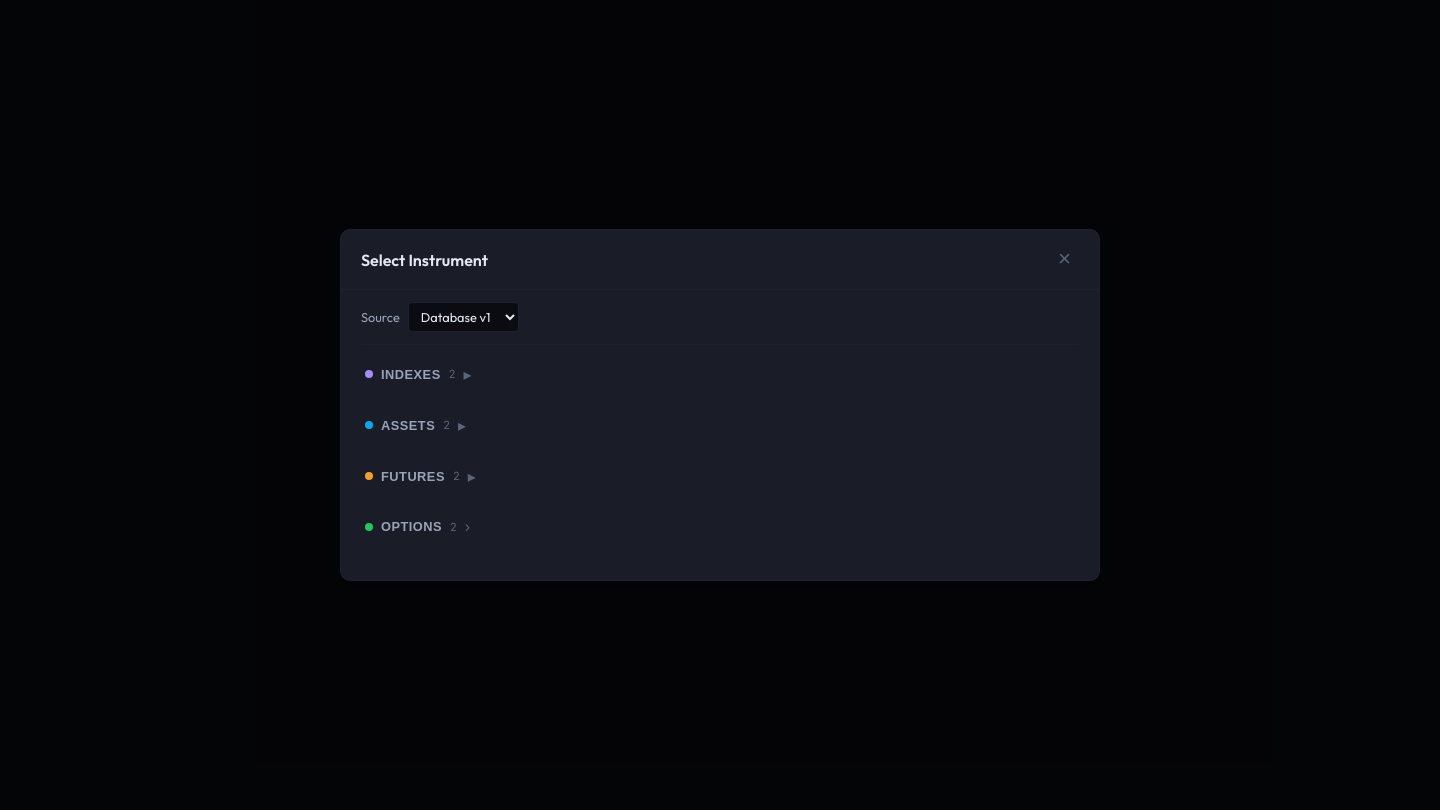
<InstrumentPickerModal> source-aware catalog › toggling the source v1→v2 RELOADS the catalog and drops v1-only items
Expected: the text "Indexes" is shown, left=381, top=367, right=441, bottom=382
// Start on v1: FUT_VIX is offered.
Click the text "Futures" at (413, 476), box left=381, top=469, right=445, bottom=484
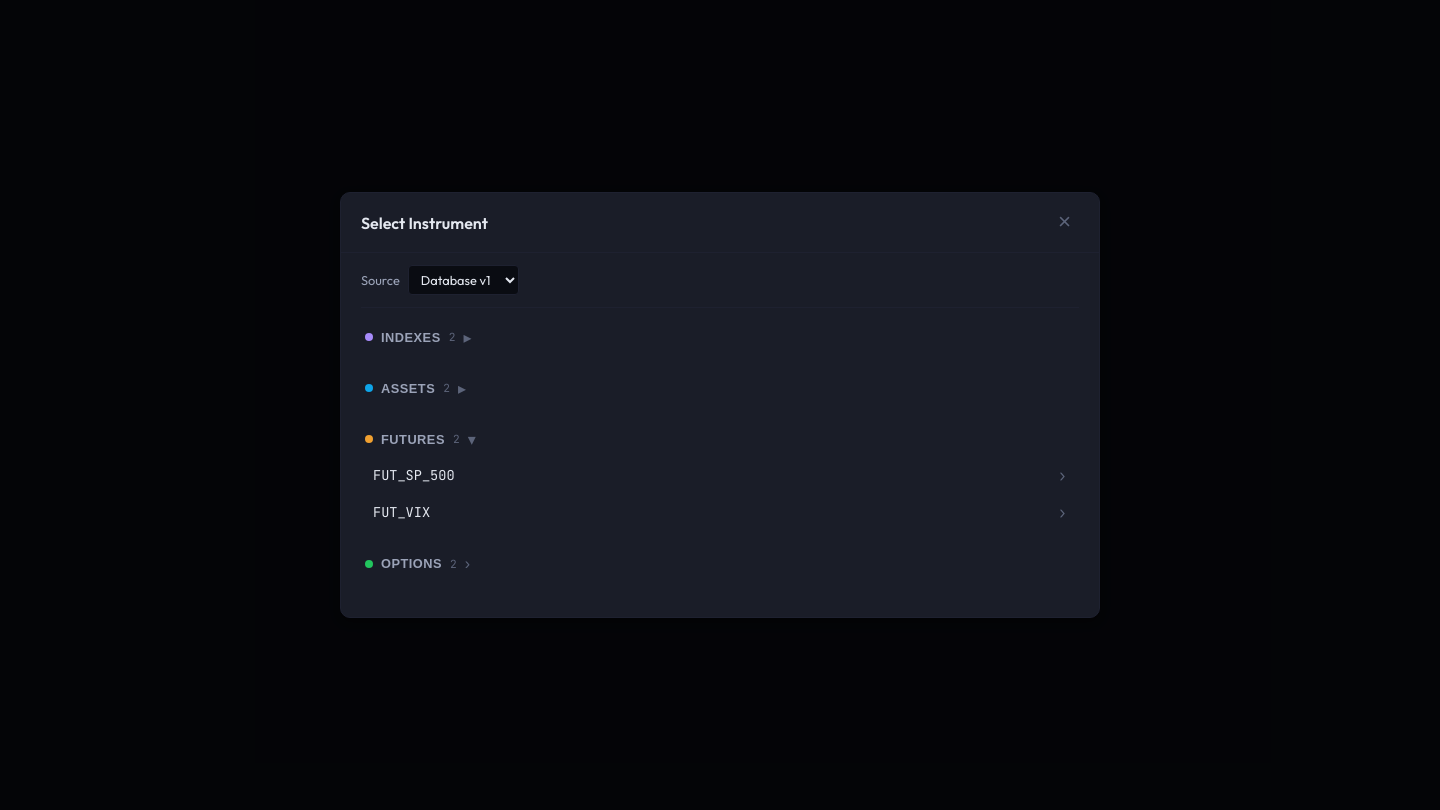
Now the text "FUT_VIX" is shown, box left=373, top=503, right=430, bottom=521
// Flip the selector to v2.
Select "Database v2" in the dropdown with test id "picker-data-source-select" at (463, 280), box left=408, top=265, right=519, bottom=295
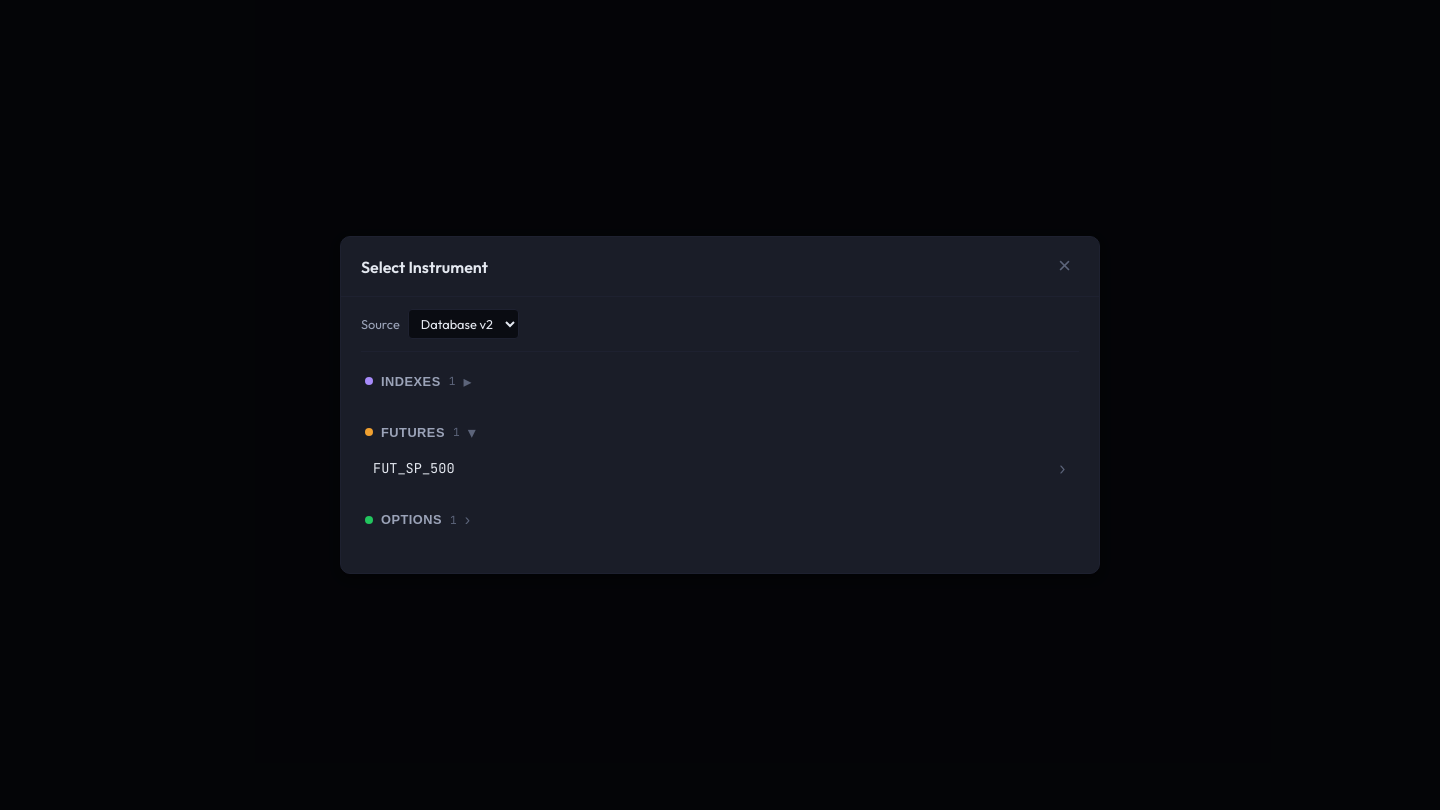
Now the text "FUT_SP_500" is shown, box left=373, top=459, right=455, bottom=477
Now the button "FUT_VIX" is gone
